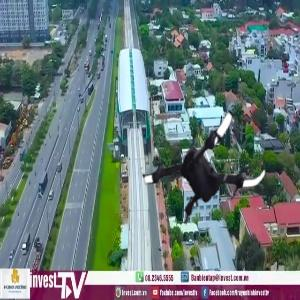drone: (132, 103, 270, 241)
